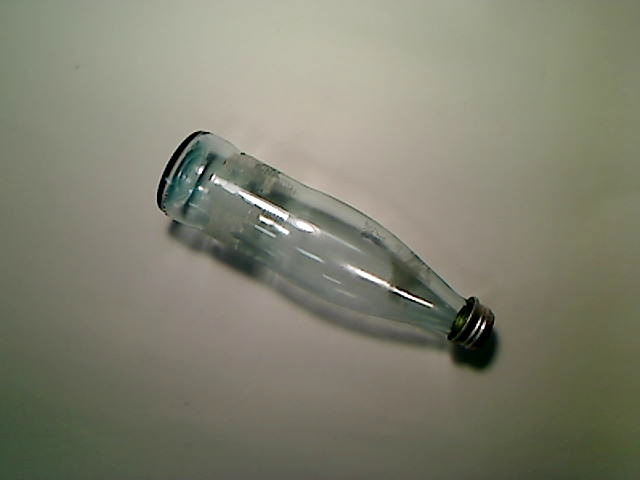bottle: (156, 130, 497, 353)
